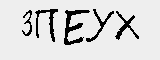Е: (64, 7, 90, 44)
З: (18, 8, 32, 38)
П: (34, 6, 57, 41)
У: (85, 6, 113, 44)
Х: (113, 11, 139, 42)
